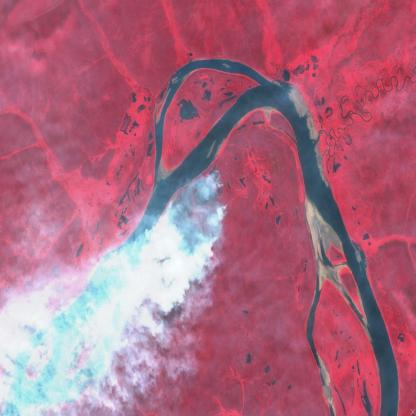fire: (160, 167, 227, 287)
